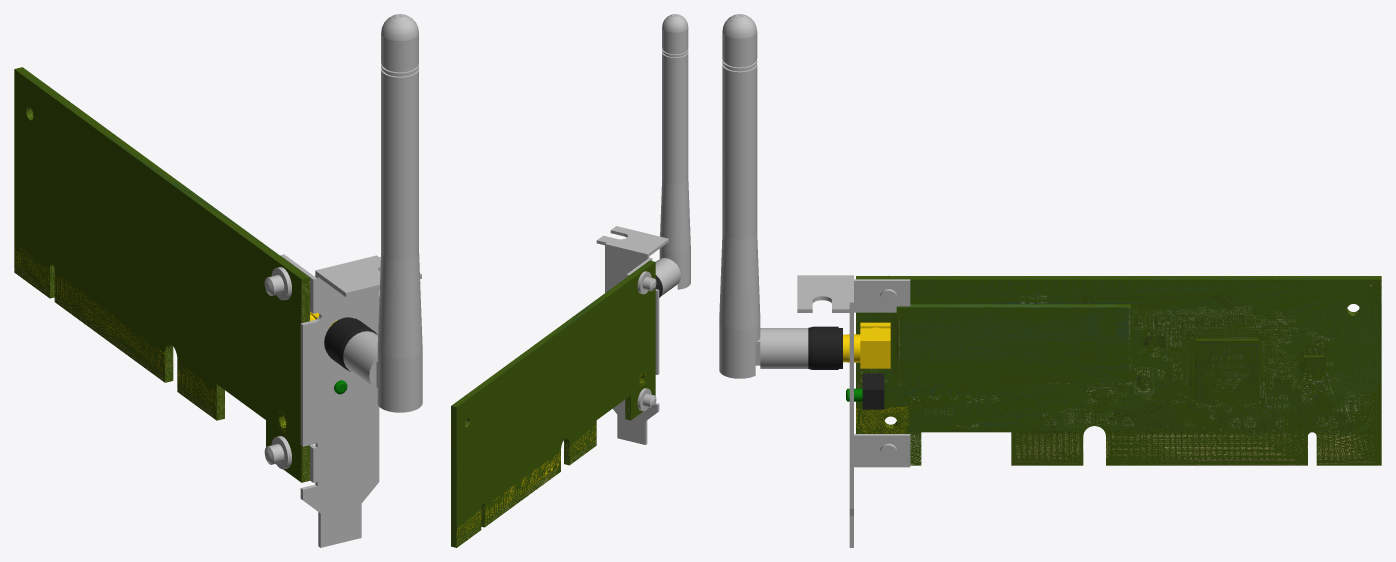
File: wireless_receiver.dae
The picture shows the model from 3 angles, left to right: view 1: azimuth 30°, elevation 25°; view 2: azimuth 150°, elevation 25°; view 3: azimuth 270°, elevation 25°; orthographic projection. The views are drawn at different scales.
Visible parts, largest first — view 1: Group1, Group4, Group9, Group8, Group3, Group5; view 2: Group1, Group9, Group4, Group8, Group3, Group5; view 3: Group1, Group9, Group4, Group8, Group6, Group2.
Boxes of the visible parts, box(x1,y1,x2,y2) form: Group1: box(14, 67, 309, 482); Group4: box(280, 254, 421, 547); Group9: box(377, 14, 422, 412); Group8: box(324, 317, 377, 390); Group3: box(264, 267, 291, 300); Group5: box(264, 436, 291, 469); Group1: box(451, 260, 655, 547); Group9: box(659, 14, 690, 289); Group4: box(596, 226, 668, 444); Group8: box(655, 258, 680, 297); Group3: box(637, 271, 656, 294); Group5: box(637, 388, 656, 411); Group1: box(856, 276, 1381, 465); Group9: box(719, 14, 760, 378); Group4: box(797, 275, 910, 547); Group8: box(755, 326, 842, 369); Group6: box(843, 322, 890, 368); Group2: box(846, 373, 884, 409).
Bounding box in the file's own units: 1 × 6 × 5.22.
